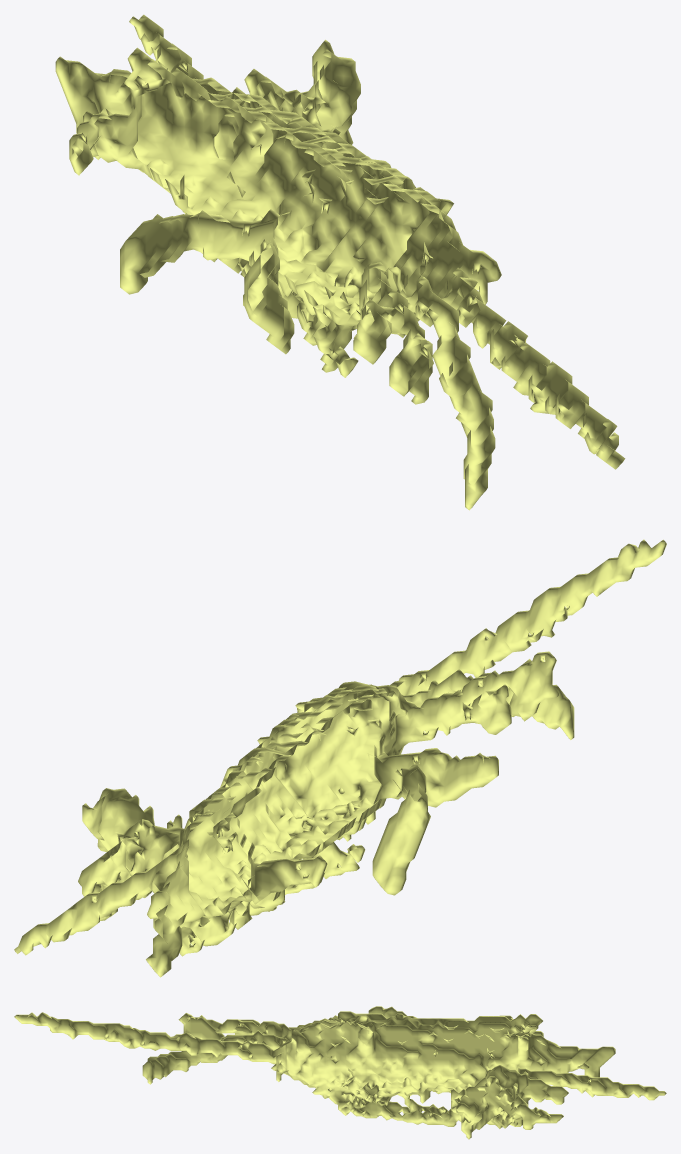
The model's file is osteocyte_8.glb.
3 renders of one model, top to bottom at view 1: azimuth 30°, elevation 25°; view 2: azimuth 150°, elevation 25°; view 3: azimuth 270°, elevation 25°, orthographic. The views are drawn at different scales.
Parts seen in each view (by area): view 1: osteocyte_8; view 2: osteocyte_8; view 3: osteocyte_8.
Boxes of the visible parts, x1=… form: osteocyte_8: x1=55, y1=14, x2=625, y2=510; osteocyte_8: x1=14, y1=539, x2=666, y2=977; osteocyte_8: x1=14, y1=1006, x2=666, y2=1139.
Bounding box in the file's own units: 16.37 × 10.59 × 61.15.
